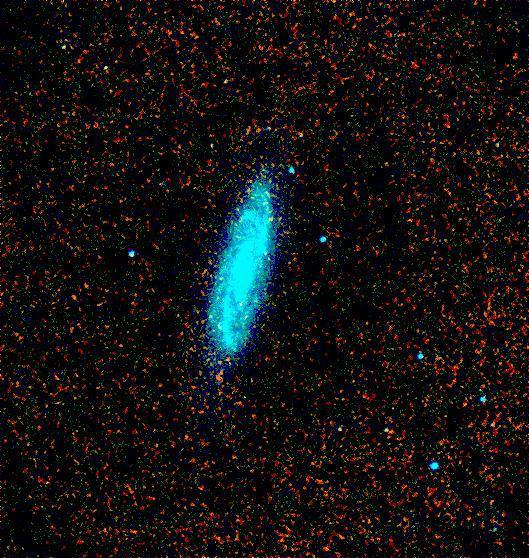star: (215, 349, 245, 379)
